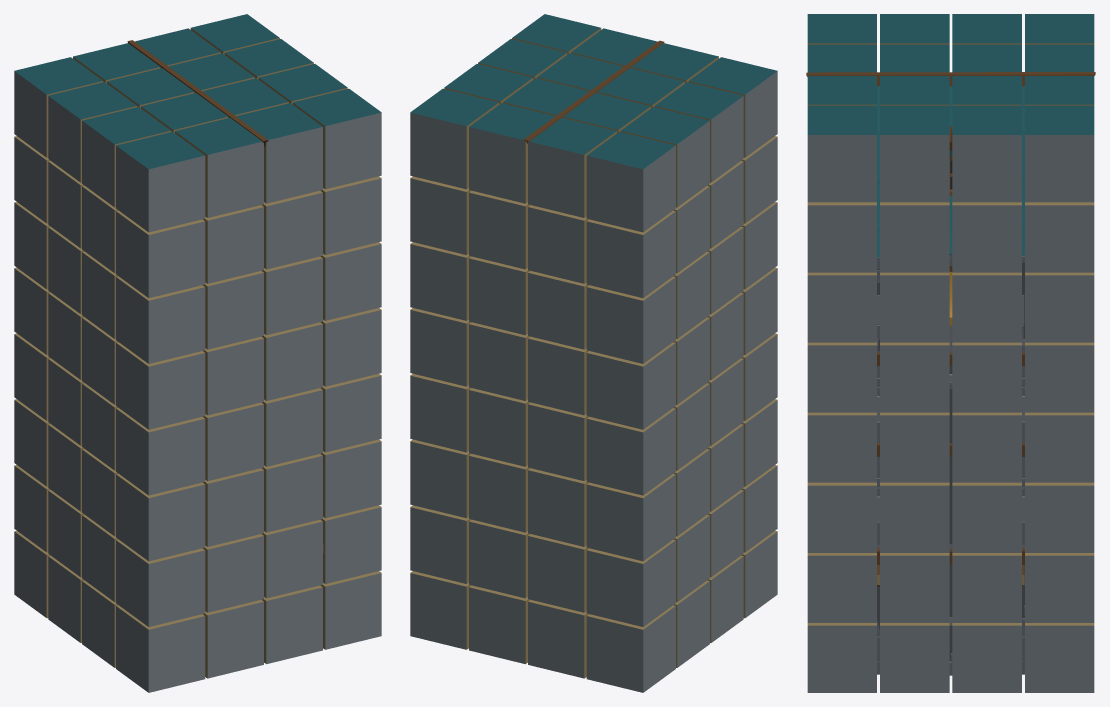
The model's file is Bell_Tower_destructible.gltf.
The picture shows the model from 3 angles, left to right: view 1: azimuth 30°, elevation 25°; view 2: azimuth 150°, elevation 25°; view 3: azimuth 270°, elevation 25°; orthographic projection. The views are drawn at different scales.
Visible parts, largest first — view 1: block_f7_r3_c0, block_f2_r3_c0, block_f1_r3_c0, block_f3_r3_c0, block_f4_r3_c0, block_f0_r3_c0, block_f5_r3_c0, block_f6_r3_c0, block_f7_r3_c1, block_f7_r3_c3, block_f7_r3_c2, block_f7_r0_c0 (+53 smaller); view 2: block_f7_r0_c0, block_f2_r0_c0, block_f1_r0_c0, block_f3_r0_c0, block_f4_r0_c0, block_f0_r0_c0, block_f5_r0_c0, block_f6_r0_c0, block_f7_r0_c1, block_f7_r0_c3, block_f7_r0_c2, block_f7_r3_c0 (+53 smaller); view 3: block_f7_r2_c3, block_f7_r1_c3, block_f7_r0_c3, block_f7_r3_c3, block_f2_r1_c3, block_f2_r2_c3, block_f3_r1_c3, block_f3_r2_c3, block_f6_r2_c3, block_f1_r1_c3, block_f1_r2_c3, block_f6_r1_c3 (+32 smaller).
Part boxes in pixels (x1,y1,x2,y2): block_f7_r3_c0: [116, 131, 205, 232]; block_f2_r3_c0: [116, 473, 205, 561]; block_f1_r3_c0: [116, 539, 205, 626]; block_f3_r3_c0: [116, 408, 205, 495]; block_f4_r3_c0: [116, 342, 205, 429]; block_f0_r3_c0: [116, 605, 205, 692]; block_f5_r3_c0: [116, 276, 205, 363]; block_f6_r3_c0: [116, 210, 205, 297]; block_f7_r3_c1: [175, 115, 265, 217]; block_f7_r3_c3: [292, 88, 381, 189]; block_f7_r3_c2: [232, 103, 322, 203]; block_f7_r0_c0: [14, 57, 103, 157]; block_f7_r0_c0: [586, 131, 675, 232]; block_f2_r0_c0: [586, 473, 675, 561]; block_f1_r0_c0: [586, 539, 675, 626]; block_f3_r0_c0: [586, 408, 675, 495]; block_f4_r0_c0: [586, 342, 675, 429]; block_f0_r0_c0: [586, 605, 675, 692]; block_f5_r0_c0: [586, 276, 675, 363]; block_f6_r0_c0: [586, 210, 675, 297]; block_f7_r0_c1: [526, 115, 616, 217]; block_f7_r0_c3: [410, 88, 499, 189]; block_f7_r0_c2: [469, 103, 559, 203]; block_f7_r3_c0: [688, 57, 777, 157]; block_f7_r2_c3: [880, 105, 950, 202]; block_f7_r1_c3: [951, 105, 1021, 202]; block_f7_r0_c3: [1025, 105, 1094, 202]; block_f7_r3_c3: [807, 105, 876, 202]; block_f2_r1_c3: [951, 457, 1023, 552]; block_f2_r2_c3: [878, 457, 950, 552]; block_f3_r1_c3: [951, 387, 1023, 482]; block_f3_r2_c3: [878, 387, 950, 482]; block_f6_r2_c3: [878, 174, 950, 272]; block_f1_r1_c3: [951, 527, 1023, 622]; block_f1_r2_c3: [878, 527, 950, 622]; block_f6_r1_c3: [951, 174, 1023, 272].
Bounding box in the file's own units: 10.39 × 22.43 × 10.5.
